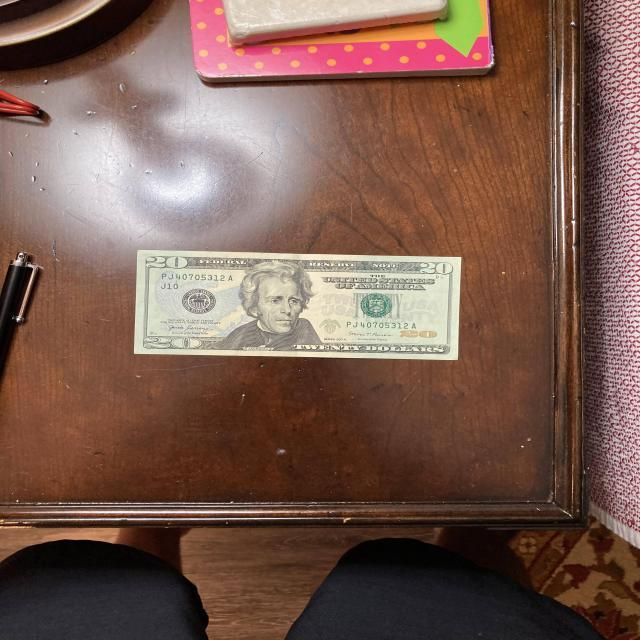twenty: (134, 250, 462, 361)
